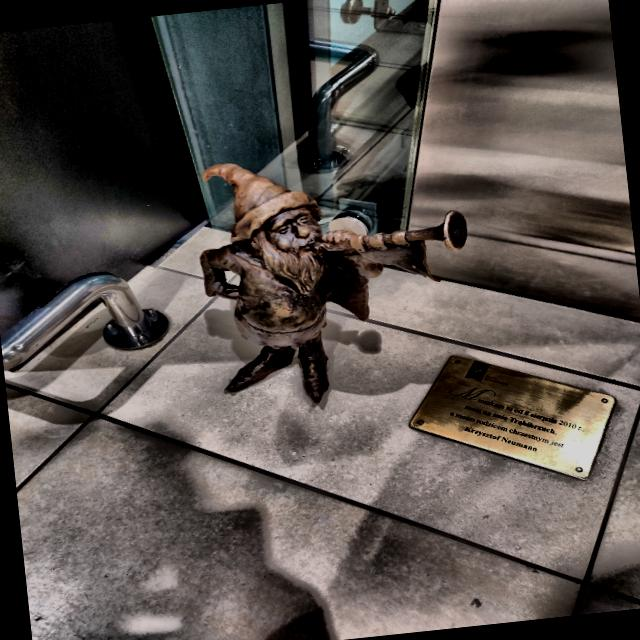Trabibrzuch: (200, 163, 466, 403)
